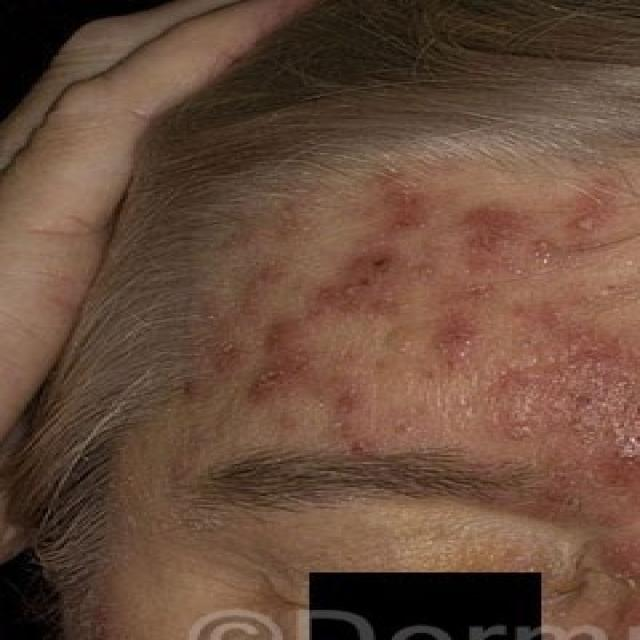Rosacea: (234, 186, 630, 444)
